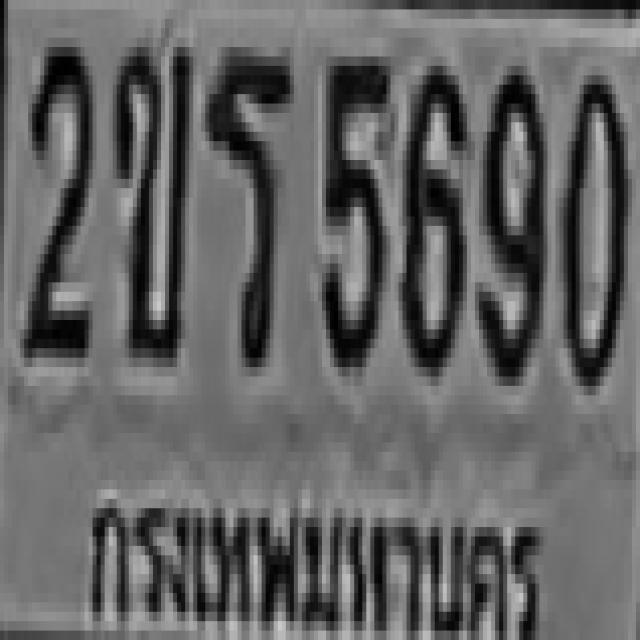0: (559, 66, 624, 376)
11KhorKhai: (109, 33, 189, 353)
2: (20, 33, 89, 353)
44RorRuea: (205, 42, 290, 362)
5: (318, 47, 386, 367)
6: (398, 57, 463, 367)
9: (475, 56, 543, 376)
Bangkok: (83, 481, 550, 640)
